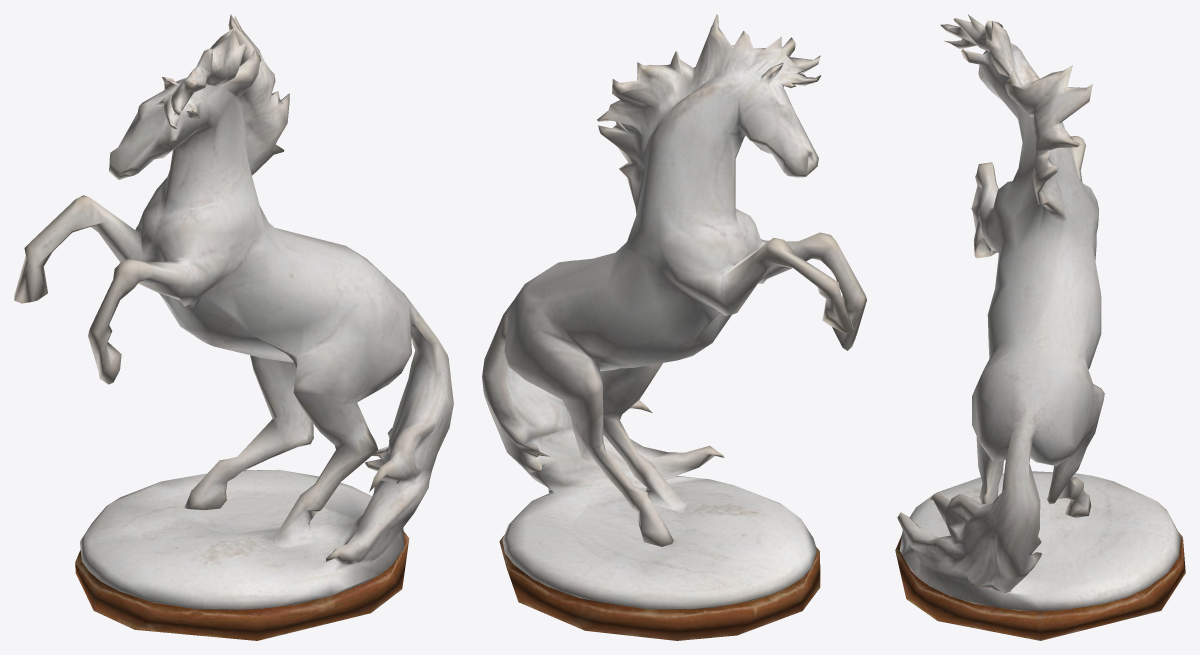
Rendered from statue-cheval.glb.
3 views of the same model, side by side, from view 1: azimuth 30°, elevation 25°; view 2: azimuth 150°, elevation 25°; view 3: azimuth 270°, elevation 25° (orthographic). The views are drawn at different scales.
Visible parts, largest first — view 1: horse_statue_01; view 2: horse_statue_01; view 3: horse_statue_01.
Boxes of the visible parts, bbox=[...] form: horse_statue_01: bbox=[14, 14, 453, 640]; horse_statue_01: bbox=[482, 14, 866, 640]; horse_statue_01: bbox=[895, 14, 1185, 640].
Size of the model in its own units: 0.1635 by 0.22 by 0.1078.
Materials: 1 (1 with a texture image).
